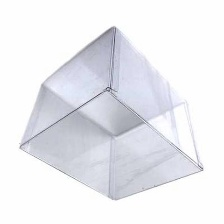plastic_box: (12, 20, 209, 208)
